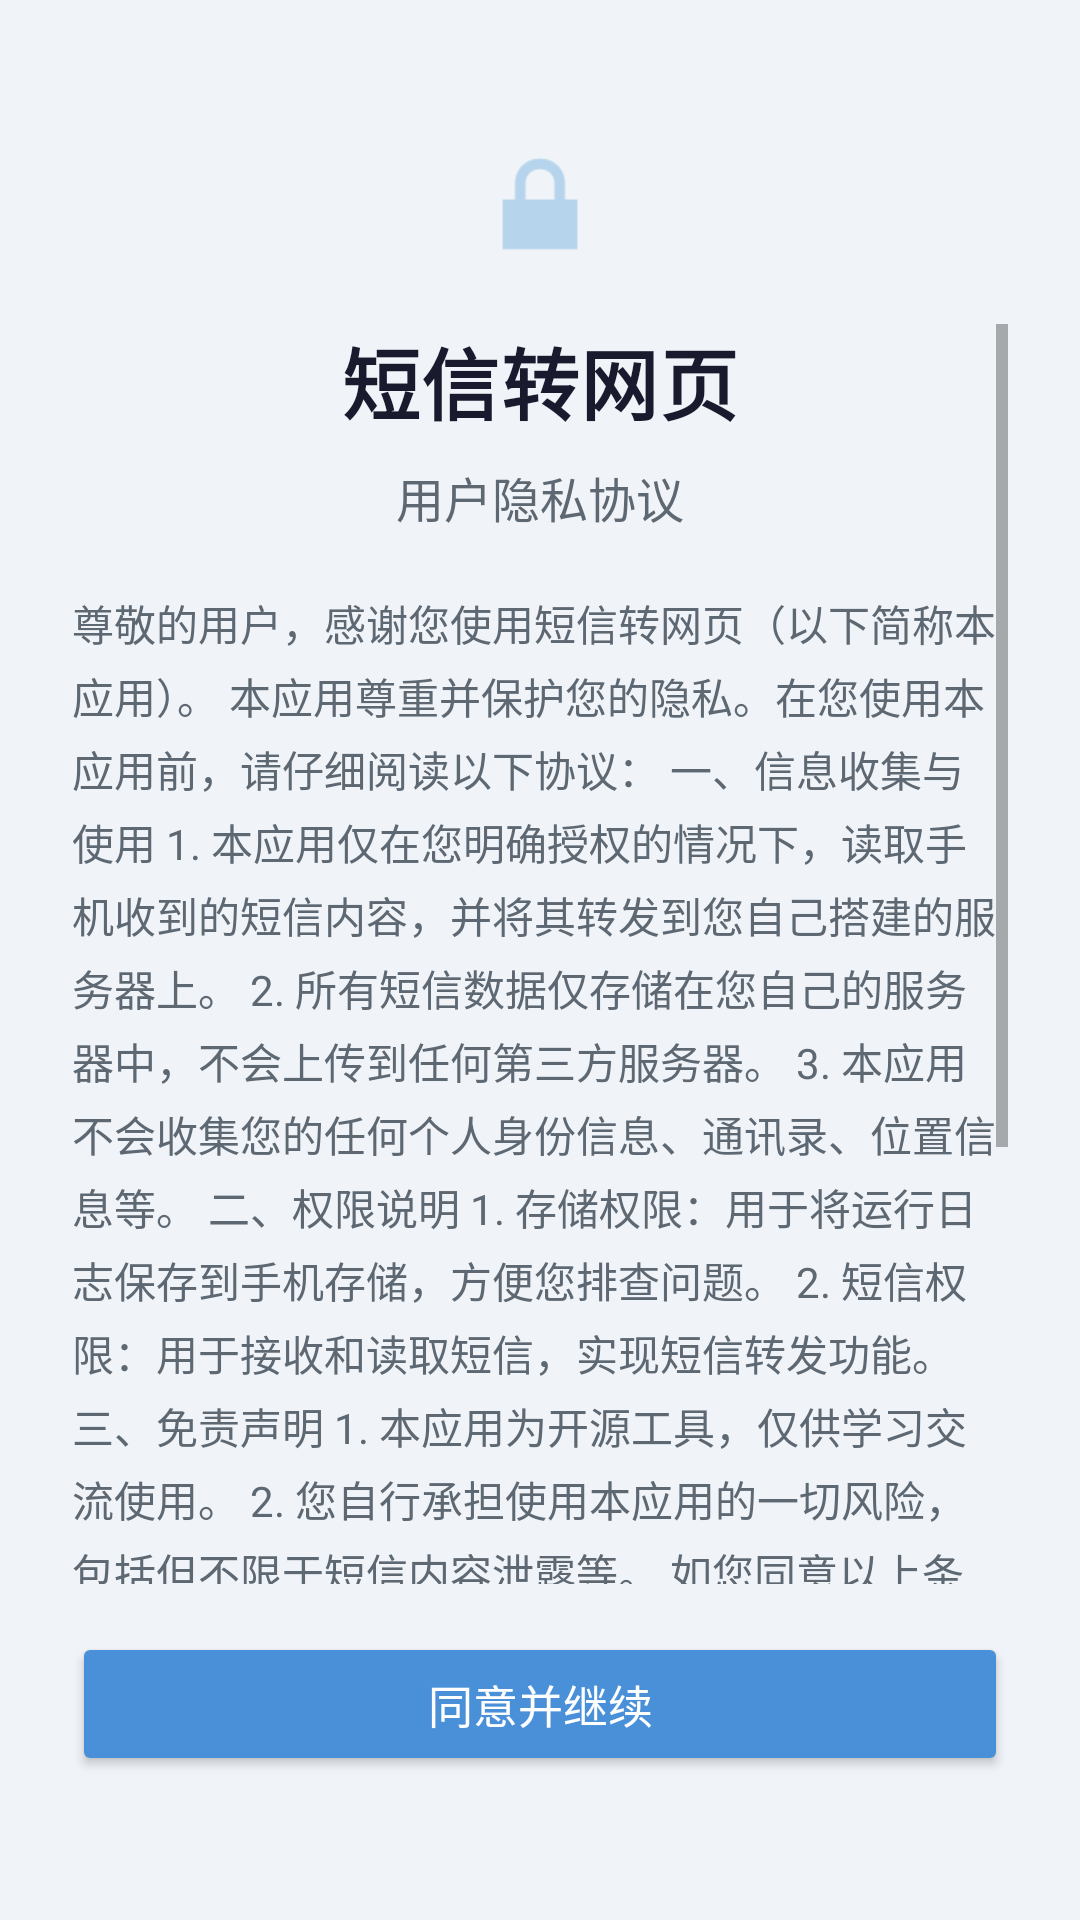

Where icons sit on this 1080*1920 app screen, as (x1, y1, x2, y2):
lock: (502, 159, 578, 249)
